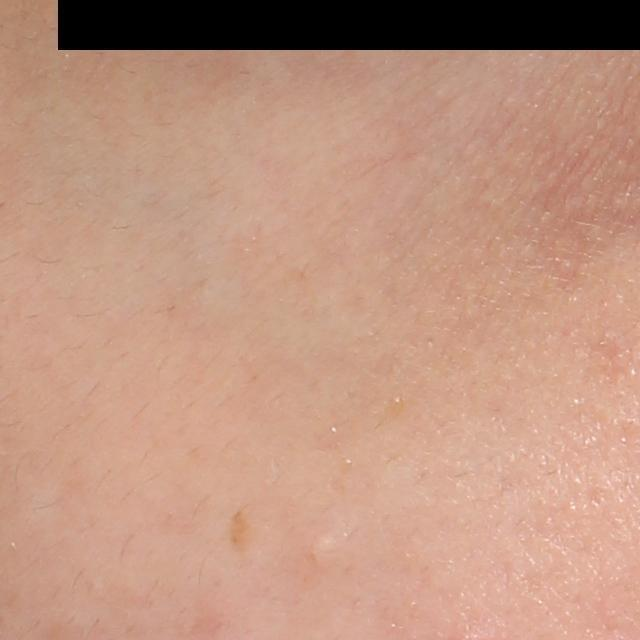comedo: (303, 533, 336, 567)
melasma: (224, 506, 253, 562)
